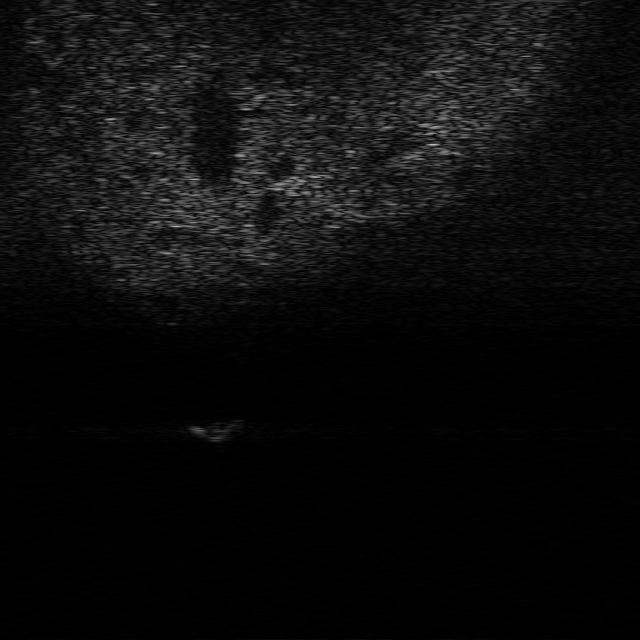cube: (186, 416, 244, 444)
